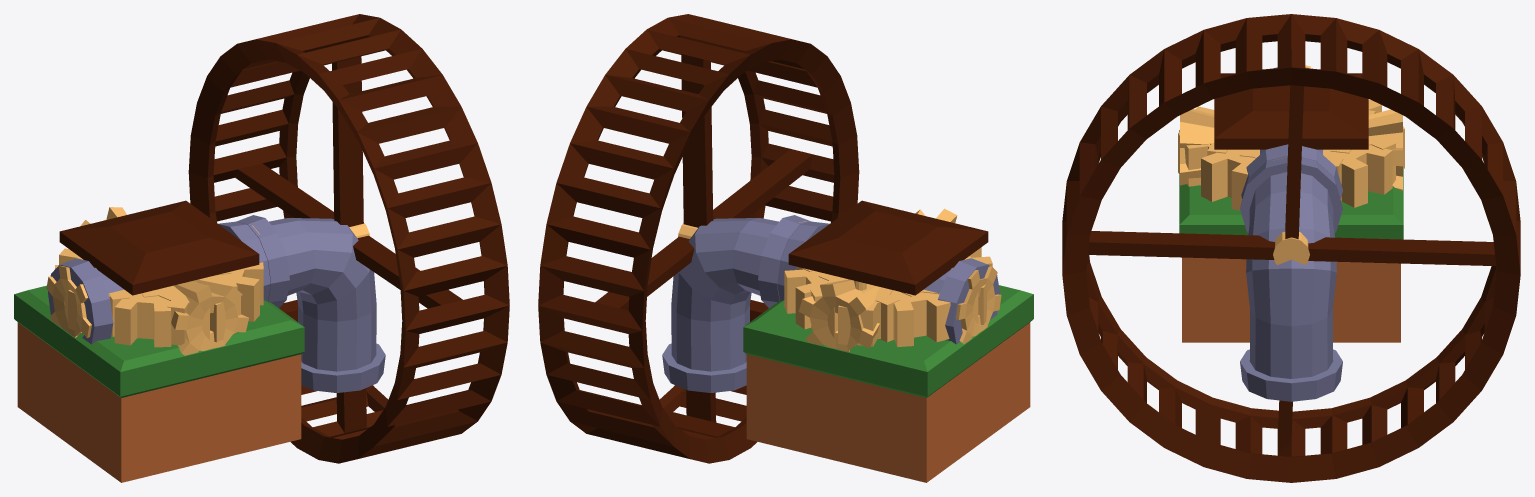
The model's file is mech.glb.
The picture shows the model from 3 angles, left to right: view 1: azimuth 30°, elevation 25°; view 2: azimuth 150°, elevation 25°; view 3: azimuth 270°, elevation 25°; orthographic projection. The views are drawn at different scales.
Parts seen in each view (by area): view 1: Cylinder.001, ground, Cylinder.003, grass, top, cog_big, Cylinder, shaf_f, shaf_r, cog_f, cog_r; view 2: Cylinder.001, ground, Cylinder.003, grass, top, cog_big, shaf_b, Cylinder, shaf_r, cog_b; view 3: Cylinder.001, Cylinder.003, ground, top, cog_big, grass, shaf_f, shaf_b, Cylinder, Cylinder.002, cog_b.
Boxes of the visible parts, bbox=[...] form: Cylinder.001: bbox=[188, 14, 509, 463]; ground: bbox=[17, 322, 301, 482]; Cylinder.003: bbox=[236, 215, 385, 392]; grass: bbox=[14, 285, 304, 397]; top: bbox=[59, 200, 259, 295]; cog_big: bbox=[55, 248, 263, 347]; Cylinder: bbox=[48, 221, 270, 344]; shaf_f: bbox=[171, 279, 248, 355]; shaf_r: bbox=[46, 265, 91, 338]; cog_f: bbox=[141, 277, 237, 345]; cog_r: bbox=[68, 289, 129, 336]; Cylinder.001: bbox=[538, 14, 859, 463]; ground: bbox=[746, 322, 1030, 482]; Cylinder.003: bbox=[662, 215, 811, 392]; grass: bbox=[743, 285, 1033, 397]; top: bbox=[788, 200, 988, 295]; cog_big: bbox=[784, 247, 992, 346]; shaf_b: bbox=[798, 279, 879, 352]; Cylinder: bbox=[777, 221, 999, 344]; shaf_r: bbox=[956, 266, 1001, 344]; cog_b: bbox=[810, 273, 899, 345]; Cylinder.001: bbox=[1062, 14, 1520, 482]; Cylinder.003: bbox=[1240, 156, 1342, 401]; ground: bbox=[1182, 257, 1400, 342]; top: bbox=[1214, 73, 1368, 149]; cog_big: bbox=[1184, 99, 1392, 210]; grass: bbox=[1179, 130, 1403, 239]; shaf_f: bbox=[1180, 109, 1214, 185]; shaf_b: bbox=[1368, 109, 1402, 191]; Cylinder: bbox=[1241, 67, 1342, 198]; Cylinder.002: bbox=[1273, 232, 1309, 264]; cog_b: bbox=[1330, 110, 1404, 183].
Size of the model in its own units: 2.65 by 2.97 by 2.97.
